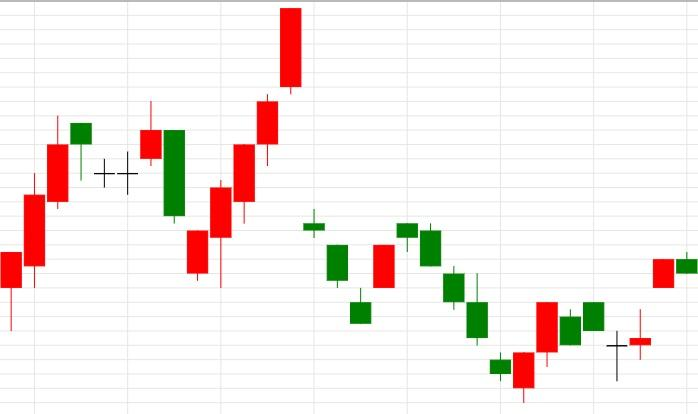bullish_engulfing_rise: (396, 223, 535, 403)
three_black_crows_fall: (349, 222, 489, 346)
